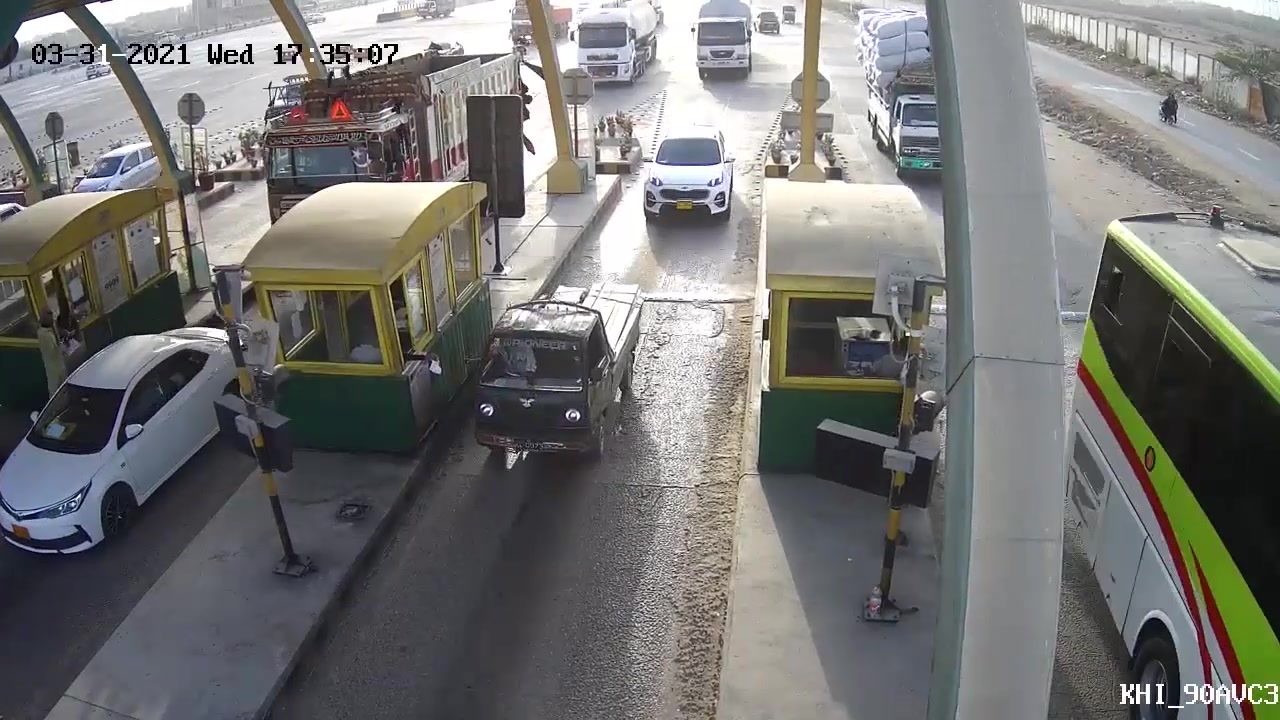F1: (466, 277, 656, 486)
